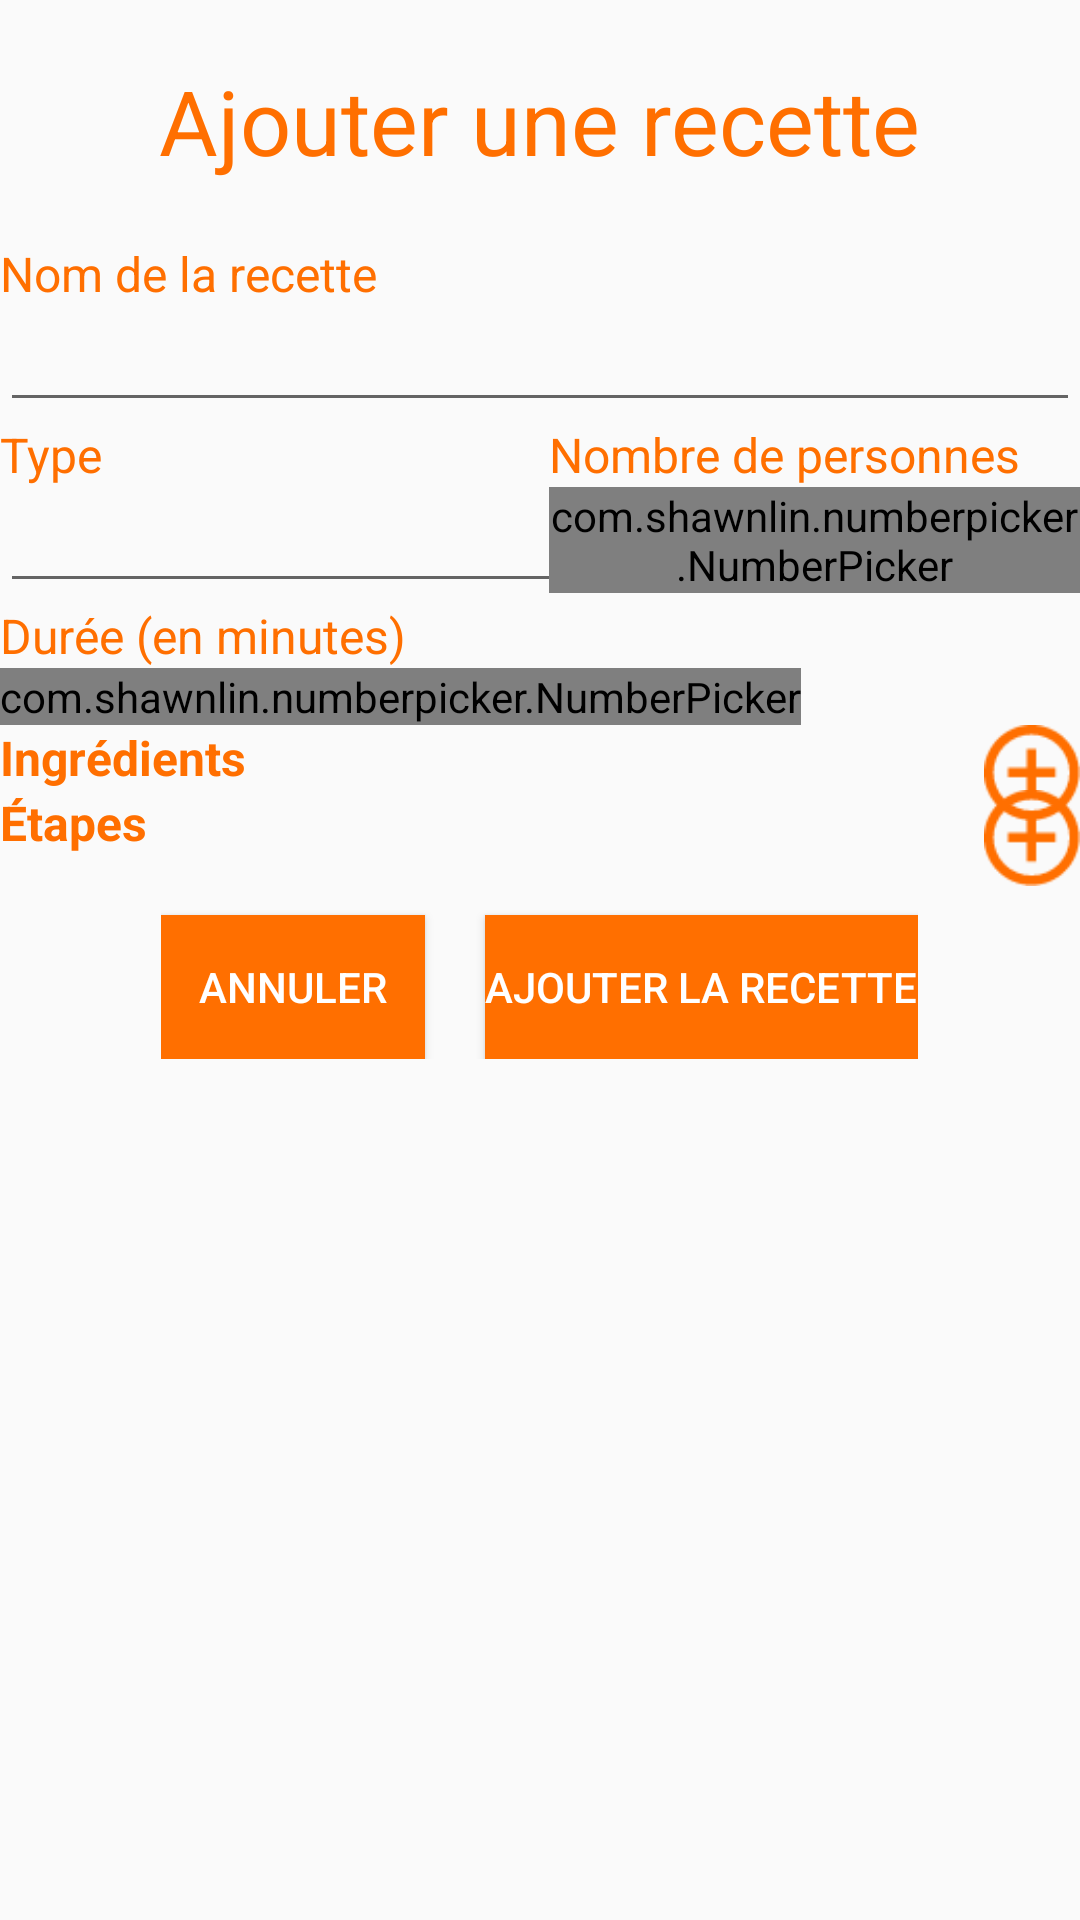

Locate icon controls on the screen. Image size 1080w x 1920h, boxes as (x1, y1, x2, y2).
add circle: (984, 725, 1080, 821), (984, 790, 1080, 886)
